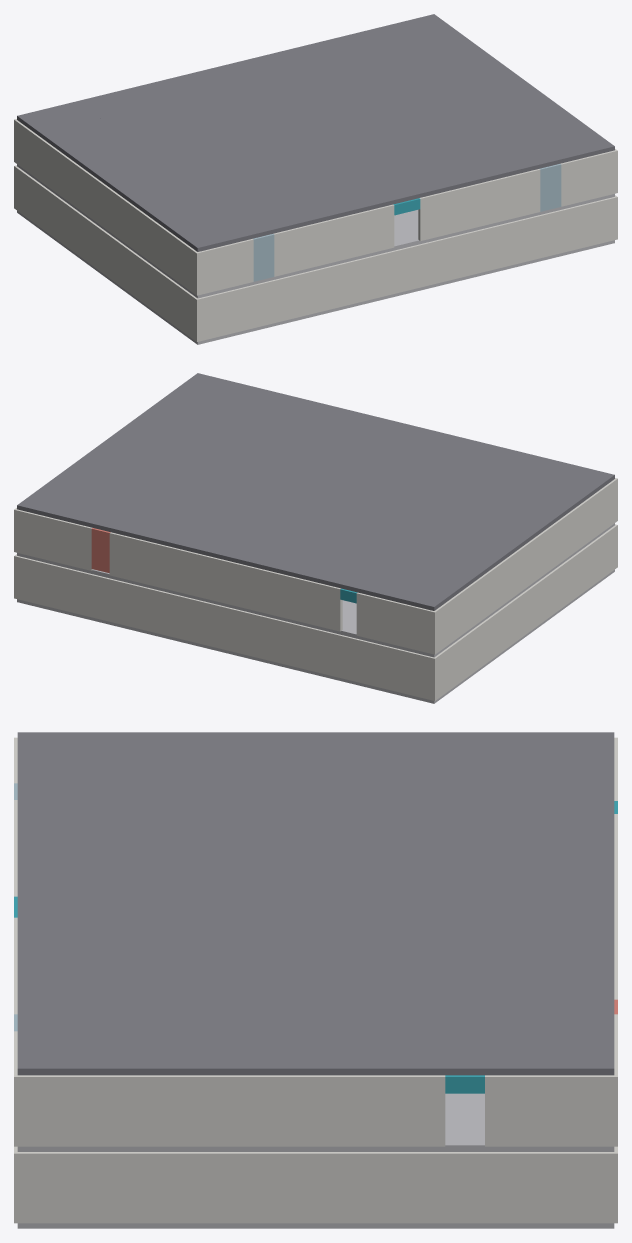
The model's file is funeral_home_a01.glb.
The picture shows the model from 3 angles, top to bottom: view 1: azimuth 30°, elevation 25°; view 2: azimuth 150°, elevation 25°; view 3: azimuth 270°, elevation 25°; orthographic projection. The views are drawn at different scales.
Parts seen in each view (by area): view 1: slab_1_t0_0, slab_1_t0_5, slab_1_t0_1, slab_1_t0_3, slab_1_t0_4, slab_1_t0_6, slab_1_t0_2, slab_1_t3_0, slab_1_t1_0, slab_1_t2_0, slab_1_t4_0, slab_1_t3_2 (+78 smaller); view 2: slab_1_t4_0, slab_1_t4_5, slab_1_t4_1, slab_1_t4_3, slab_1_t4_4, slab_1_t4_6, slab_1_t4_2, slab_1_t1_0, slab_1_t2_0, slab_1_t3_0, slab_1_t0_0, slab_1_t1_2 (+80 smaller); view 3: slab_1_t2_6, slab_1_t0_6, slab_1_t1_6, slab_1_t3_6, slab_1_t4_6, slab_1_t0_2, slab_1_t1_2, slab_1_t2_0, slab_1_t2_1, slab_1_t2_2, slab_1_t2_3, slab_1_t2_4 (+58 smaller).
Part boxes in pixels (x1,y1,x2,y2): slab_1_t0_0: (161,207,257,251); slab_1_t0_5: (460,134,555,179); slab_1_t0_1: (221,192,316,237); slab_1_t0_3: (341,163,435,208); slab_1_t0_4: (400,149,495,193); slab_1_t0_6: (519,120,614,164); slab_1_t0_2: (281,178,376,222); slab_1_t3_0: (53,127,148,172); slab_1_t1_0: (125,180,220,225); slab_1_t2_0: (89,154,184,198); slab_1_t4_0: (17,101,112,145); slab_1_t3_2: (172,98,267,139); slab_1_t4_0: (374,566,470,610); slab_1_t4_5: (76,493,171,538); slab_1_t4_1: (315,551,410,596); slab_1_t4_3: (196,522,290,567); slab_1_t4_4: (136,508,231,552); slab_1_t4_6: (17,479,112,523); slab_1_t4_2: (255,537,350,581); slab_1_t1_0: (483,486,578,531); slab_1_t2_0: (447,513,542,557); slab_1_t3_0: (411,539,506,584); slab_1_t0_0: (519,460,614,504); slab_1_t1_2: (364,457,459,498); slab_1_t2_6: (256,1020,375,1075); slab_1_t0_6: (17,1020,136,1075); slab_1_t1_6: (137,1020,256,1075); slab_1_t3_6: (375,1020,494,1075); slab_1_t4_6: (495,1020,614,1075); slab_1_t0_2: (17,828,136,876); slab_1_t1_2: (137,828,256,876); slab_1_t2_0: (256,732,375,780); slab_1_t2_1: (256,780,375,828); slab_1_t2_2: (256,828,375,876); slab_1_t2_3: (256,876,375,924); slab_1_t2_4: (256,924,375,972).
Size of what is drawn, in the model's own units: 32.3 by 7.1 by 24.3.
